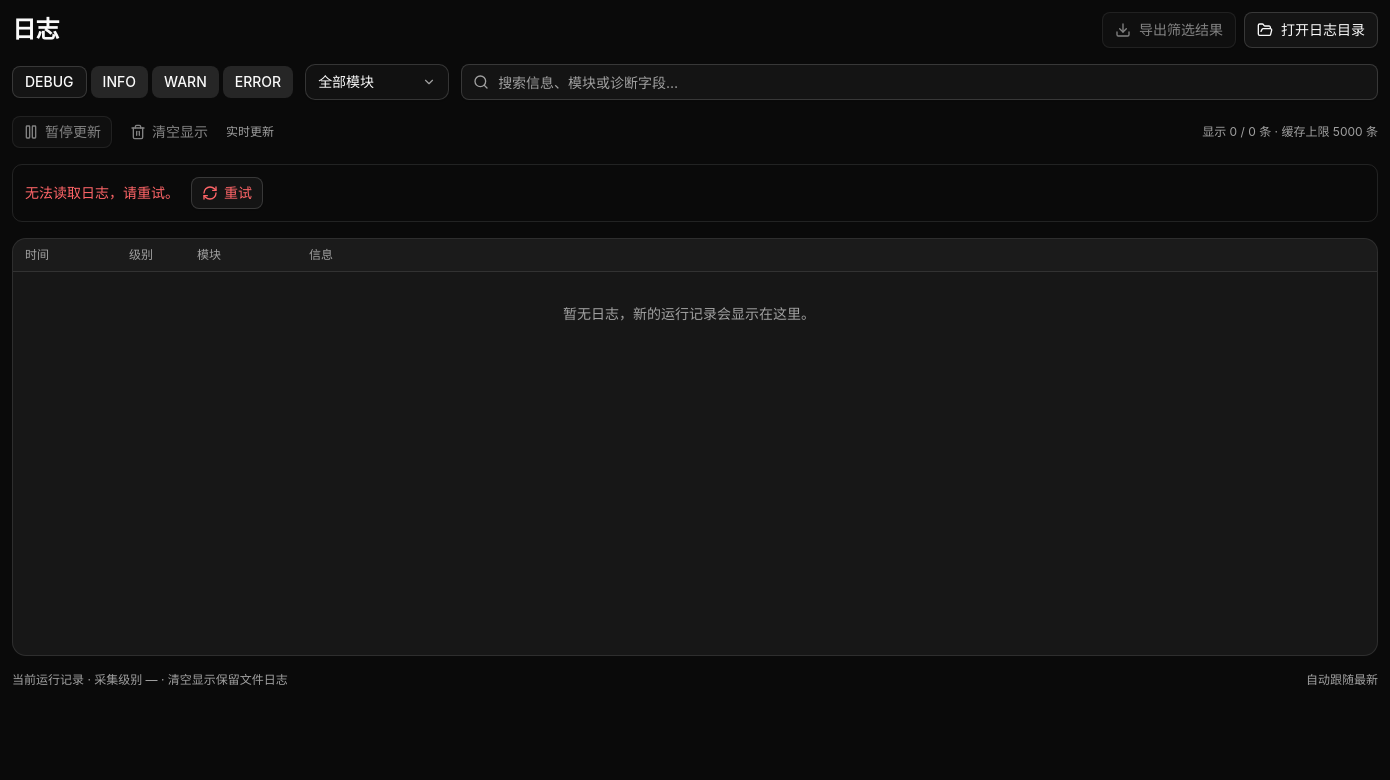
Test case: 实时日志页面 › 安全显示读取失败并允许重试
The image size is (1390, 780).
Expected: the message shows "无法读取日志", [25,184,179,201]
Click the button "重试": (227, 193) [191,177,263,209]
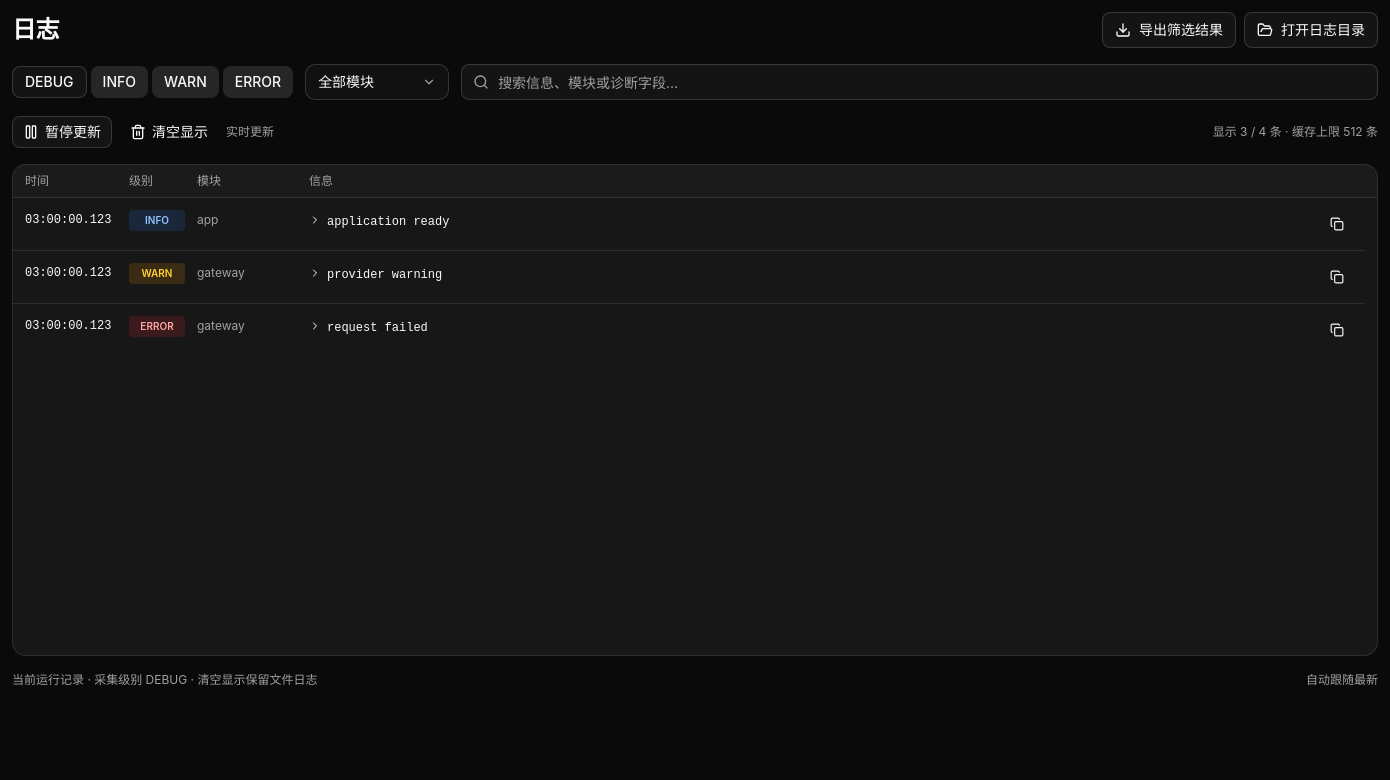
Result: the text "application ready" is shown at [327,212,449,232]
